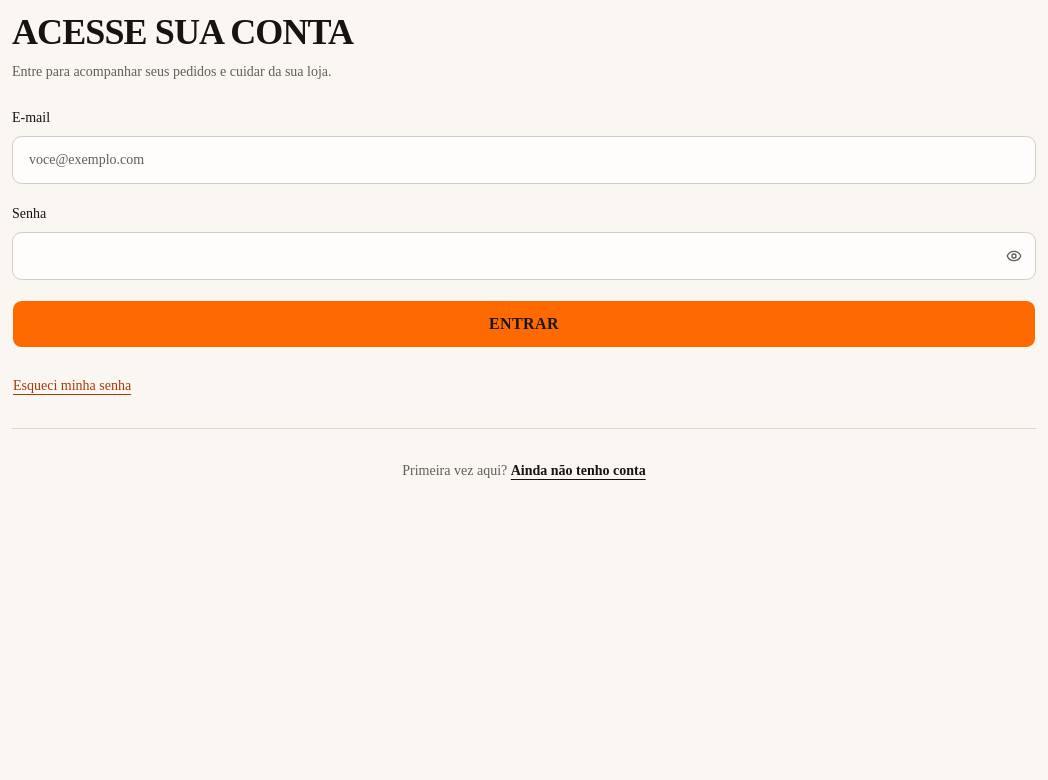
Scenario: keeps the help hidden for other sign-in errors
Type "buyer@example.test" into the field labelled "E-mail" at (524, 160), box [12,136,1036,184]
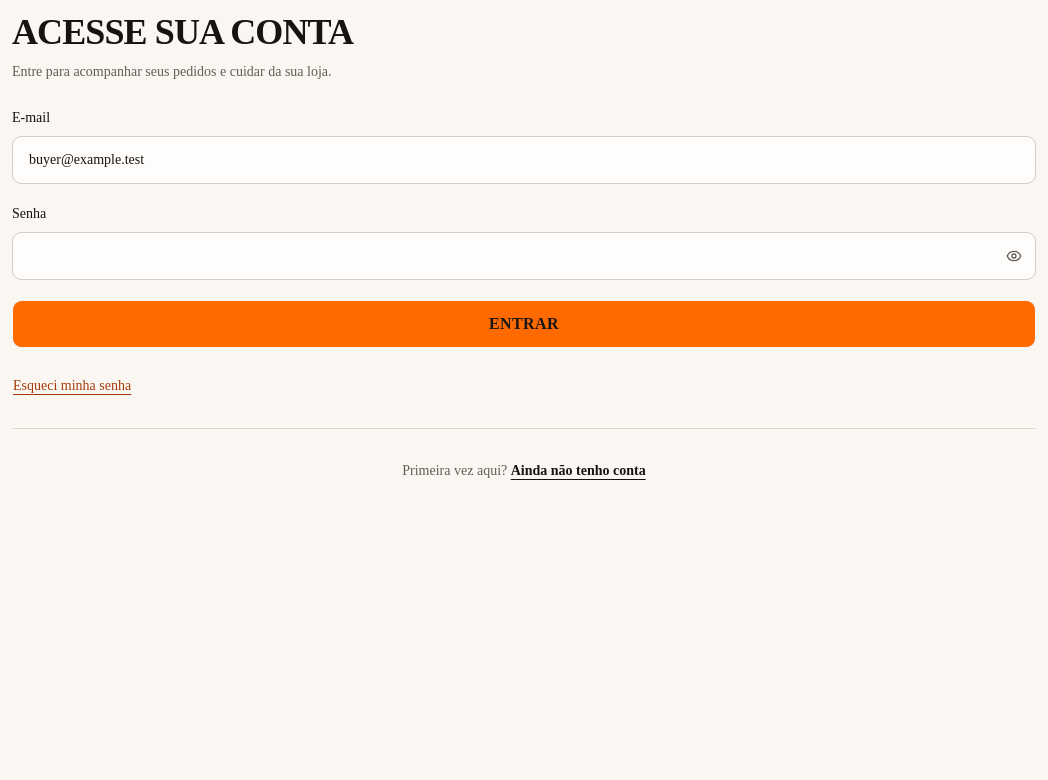
Type "wrong-password" into the password field labelled "Senha" at (524, 256), box [12,232,1036,280]
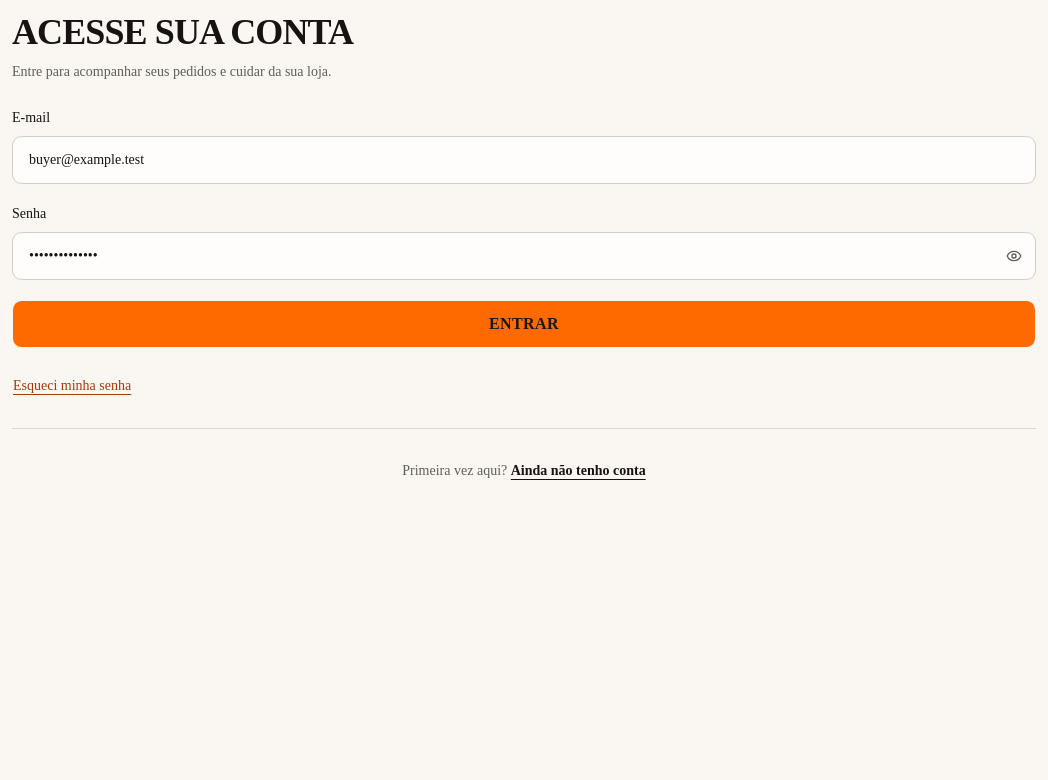
Click the button "Entrar" at (524, 324), box [12,300,1036,348]
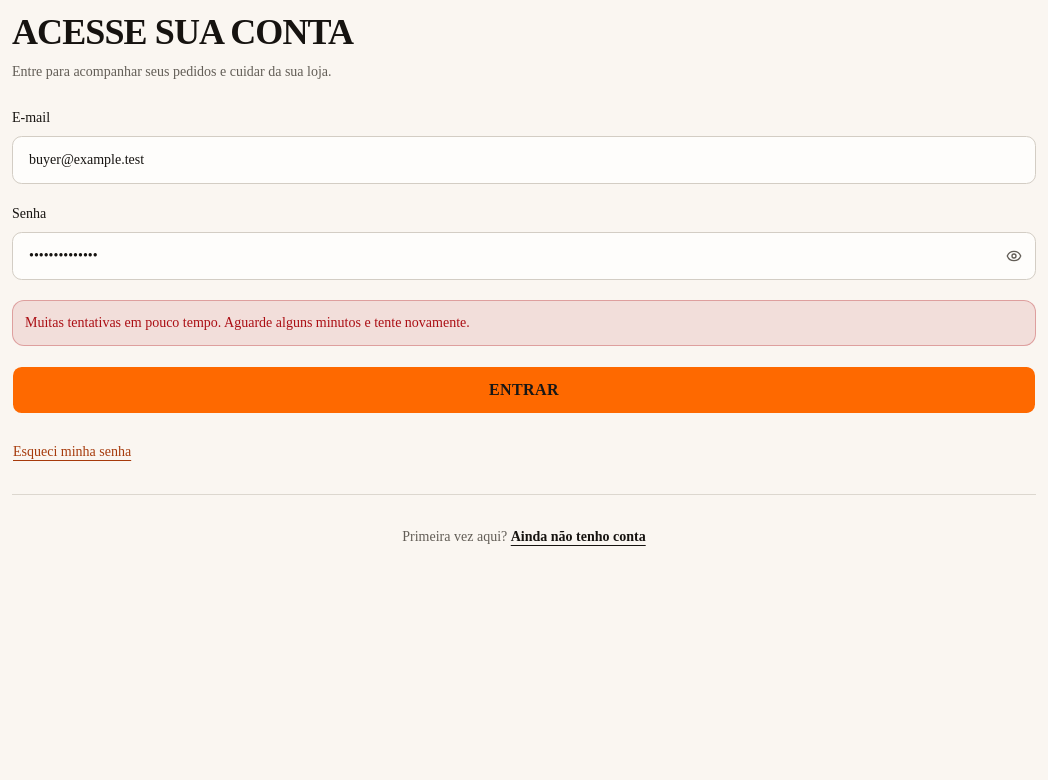
Expected: the message shows "Muitas tentativas", [25,315,470,330]
